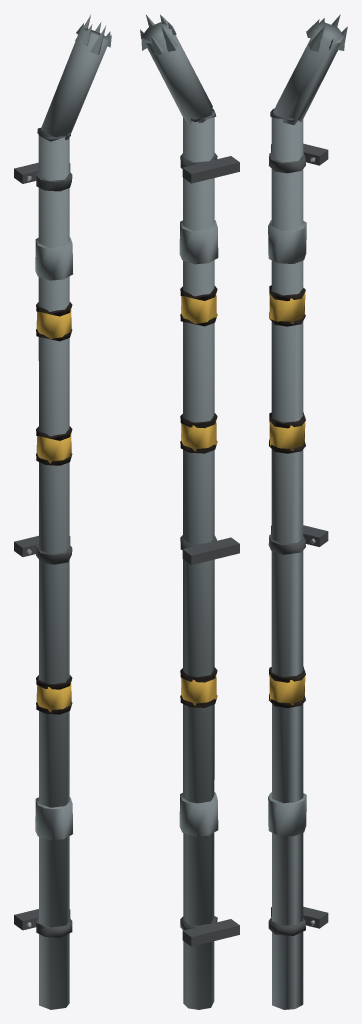
Rendered from ong_gay.glb.
The picture shows the model from 3 angles, left to right: view 1: azimuth 30°, elevation 25°; view 2: azimuth 210°, elevation 25°; view 3: azimuth 330°, elevation 25°; orthographic projection. The views are drawn at different scales.
Parts seen in each view (by area): view 1: w_ong, w_dau_gay, w_vach_bam, w_kep; view 2: w_ong, w_dau_gay, w_vach_bam, w_kep; view 3: w_ong, w_vach_bam, w_dau_gay, w_kep.
Boxes of the visible parts, <box> form: w_ong: <box>35,135,73,1009</box>; w_dau_gay: <box>37,15,111,141</box>; w_vach_bam: <box>36,302,72,714</box>; w_kep: <box>14,162,72,937</box>; w_ong: <box>179,117,218,1009</box>; w_dau_gay: <box>140,14,216,124</box>; w_vach_bam: <box>180,286,217,707</box>; w_kep: <box>180,153,239,946</box>; w_ong: <box>268,117,306,1009</box>; w_vach_bam: <box>269,285,305,707</box>; w_dau_gay: <box>270,14,347,124</box>; w_kep: <box>268,143,328,936</box>.
Bounding box in the file's own units: 0.2688 × 3.13 × 0.1569.
